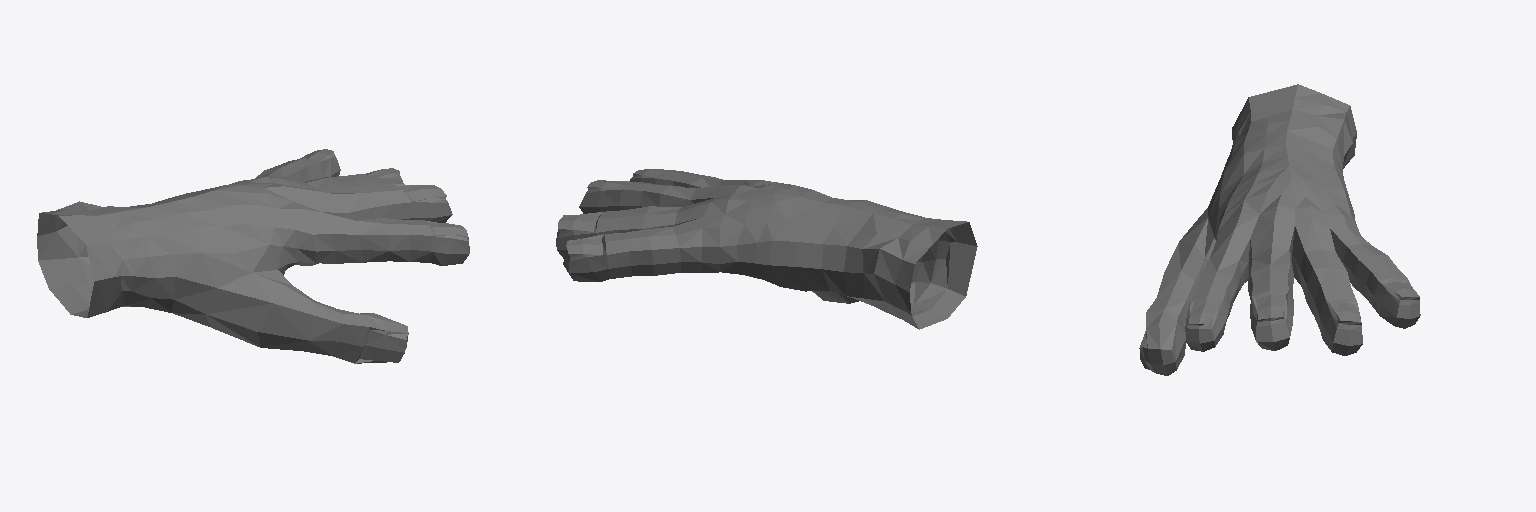
Rendered from hand01.obj.
3 views of the same model, side by side, from view 1: azimuth 30°, elevation 25°; view 2: azimuth 150°, elevation 25°; view 3: azimuth 270°, elevation 25° (orthographic).
Visible parts, largest first — view 1: mesh_Geometry_Group_jesuinoPequeno_body_M.001; view 2: mesh_Geometry_Group_jesuinoPequeno_body_M.001; view 3: mesh_Geometry_Group_jesuinoPequeno_body_M.001.
Boxes of the visible parts, box(x1,y1,x2,y2) form: mesh_Geometry_Group_jesuinoPequeno_body_M.001: box(37, 149, 469, 363); mesh_Geometry_Group_jesuinoPequeno_body_M.001: box(556, 169, 977, 329); mesh_Geometry_Group_jesuinoPequeno_body_M.001: box(1139, 84, 1420, 375).
Bounding box in the file's own units: 1.14 × 0.4603 × 0.7354.